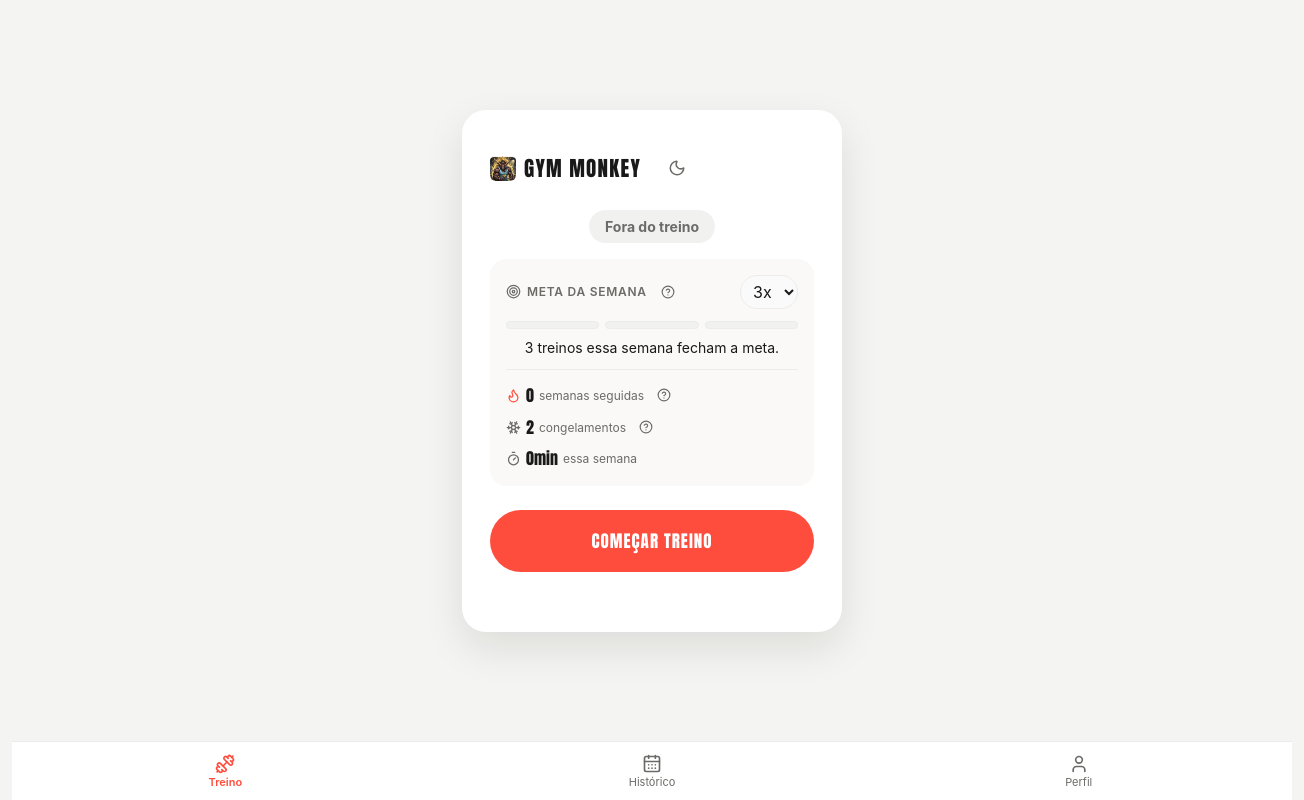
Test: PontoScreen (sessoes) › registro do treino (Fase A) › mostra o registro no historico
Step 1. Click the button "Histórico" → (652, 771), box [439,742,865,799]
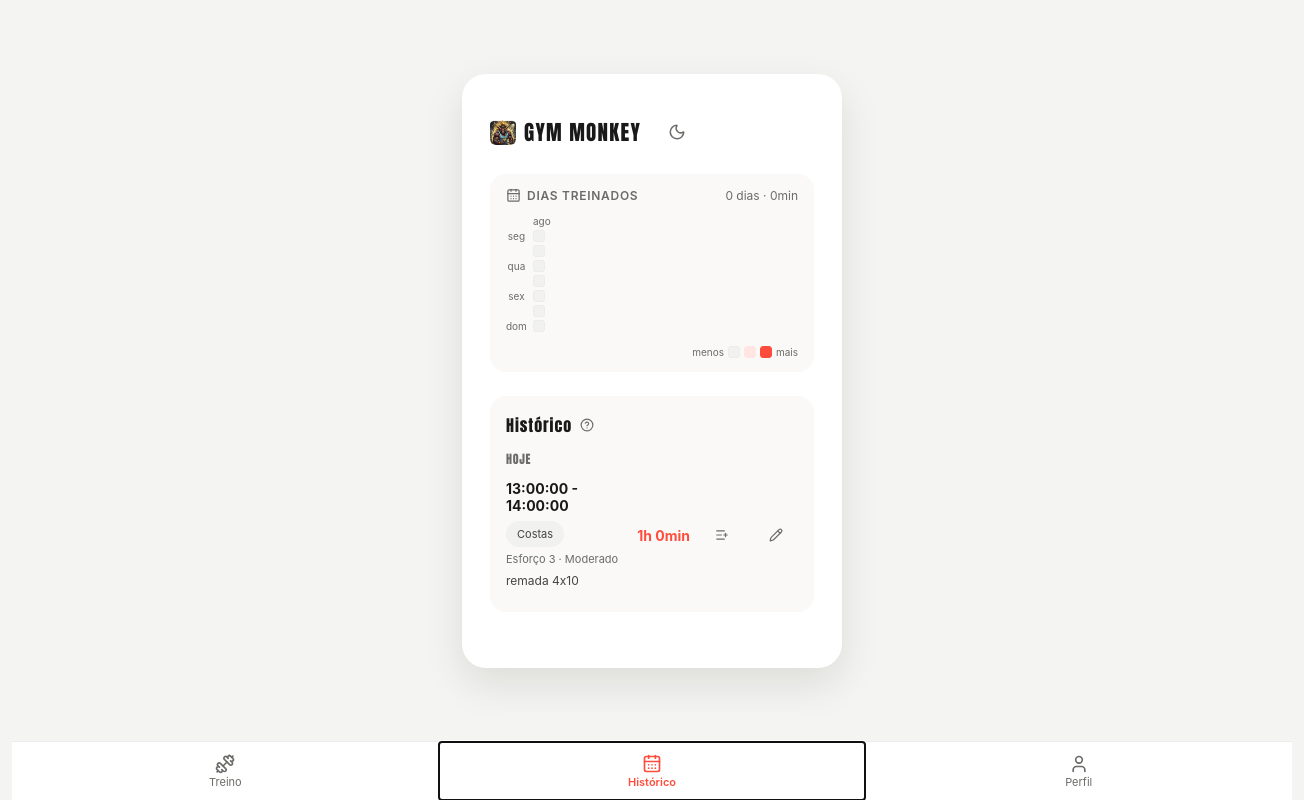
Result: the text "Costas" is shown at [506,521,564,547]
Result: the text "Esforço 3 · Moderado" is shown at [506,552,618,566]
Result: the text "remada 4x10" is shown at [506,573,579,588]
